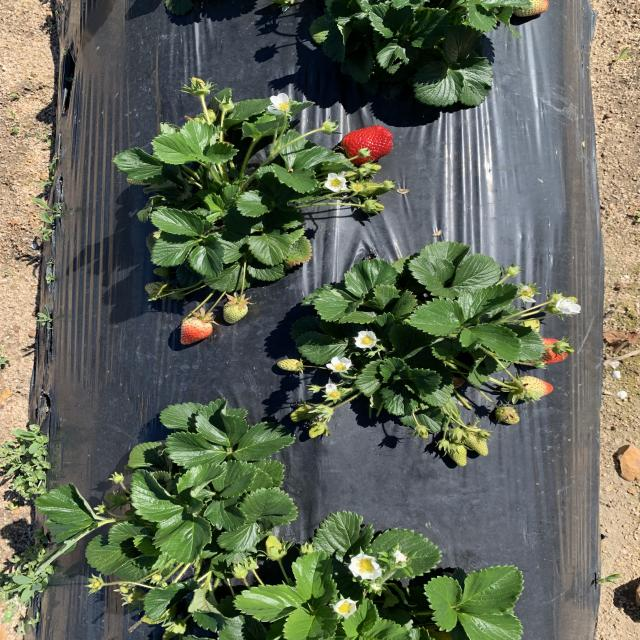unripe: (343, 121, 400, 163)
